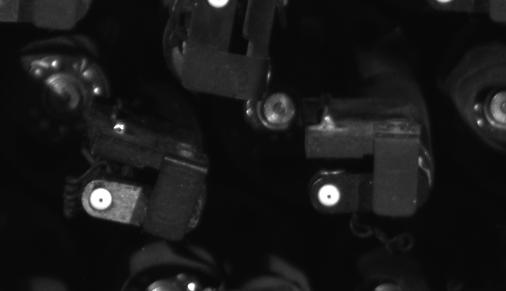fiber: (86, 184, 120, 215), (315, 179, 346, 210)
